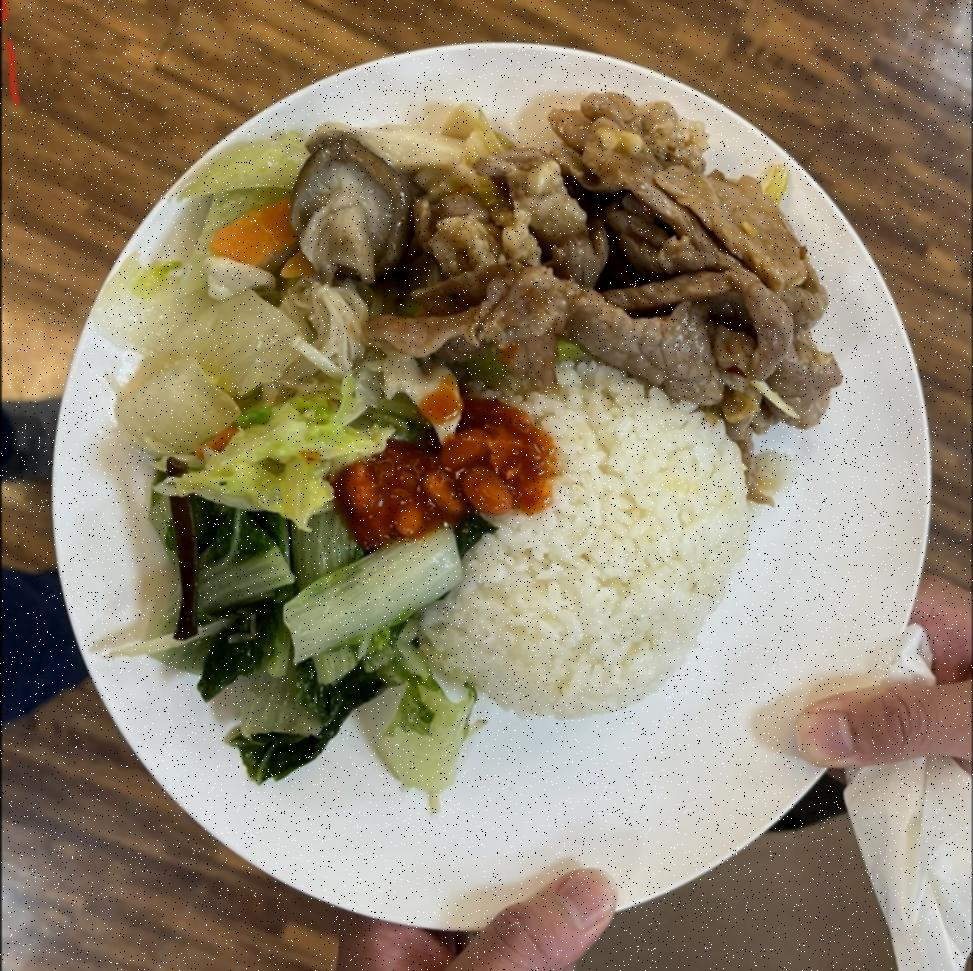garlic white meat: (388, 89, 868, 437)
plate: (51, 33, 936, 948)
side dish: (118, 110, 448, 493), (145, 484, 460, 792)
white rice: (424, 359, 765, 722)
